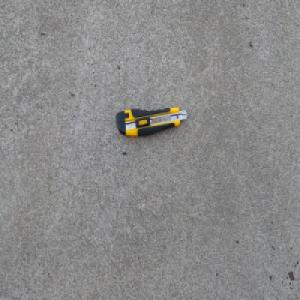Cutter: (115, 106, 187, 137)
